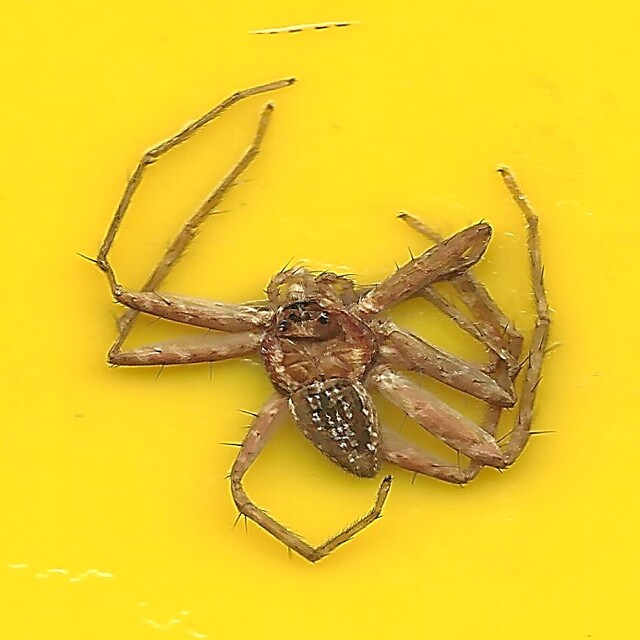Araneae: (92, 76, 548, 564)
